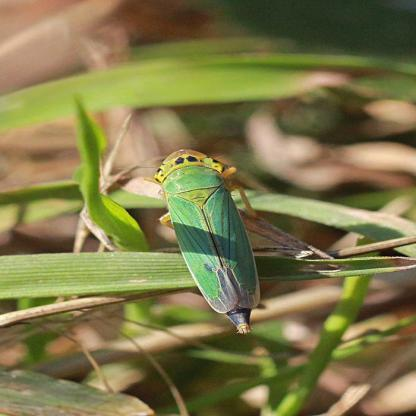Green-Leafhopper: (144, 143, 278, 336)
